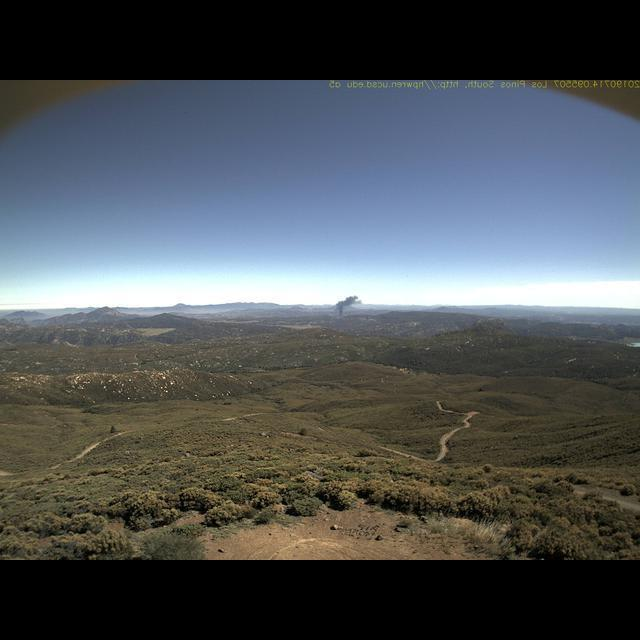Smoke: (334, 288, 366, 321)
